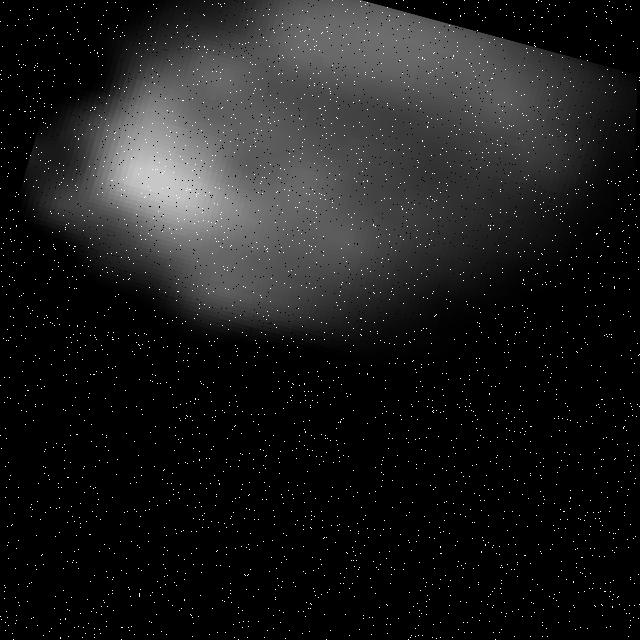person: (1, 1, 640, 434)
